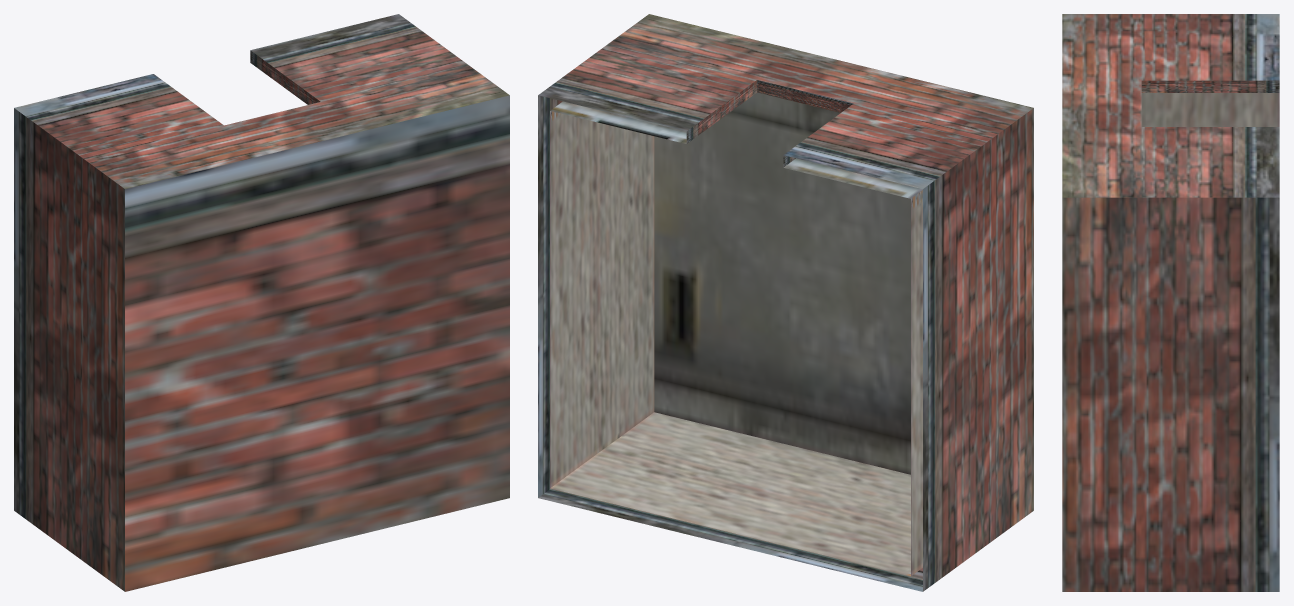
Rendered from 4x4N_redbrick_wtf.obj.
3 views of the same model, side by side, from view 1: azimuth 30°, elevation 25°; view 2: azimuth 150°, elevation 25°; view 3: azimuth 270°, elevation 25° (orthographic). The views are drawn at different scales.
Parts seen in each view (by area): view 1: group3; view 2: group3; view 3: group3.
Boxes of the visible parts, <box> form: group3: <box>14,14,509,591</box>; group3: <box>538,14,1033,591</box>; group3: <box>1062,14,1279,591</box>.
Size of the model in its own units: 660 by 660 by 330.
